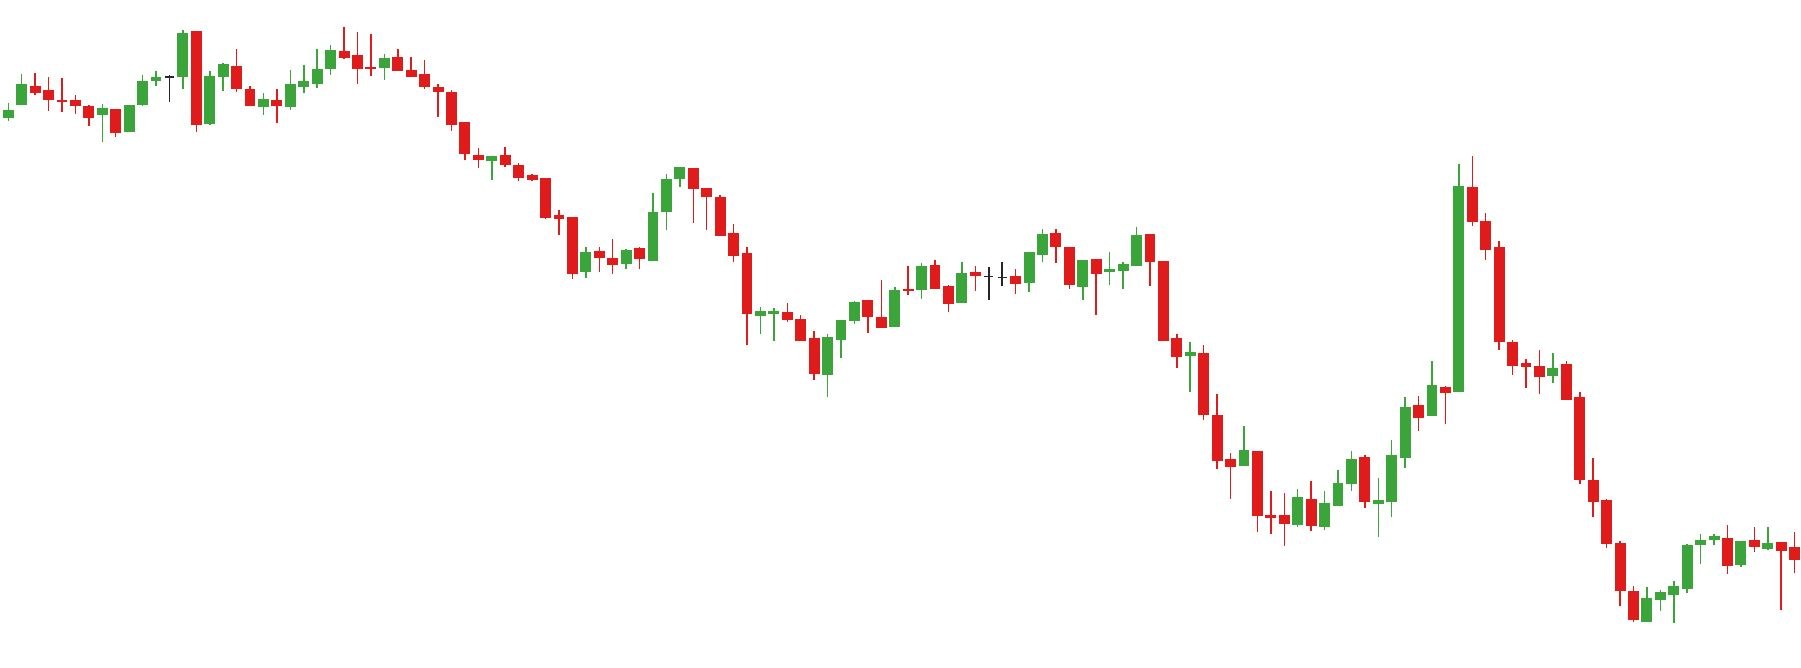sell: (1130, 158, 1493, 314)
